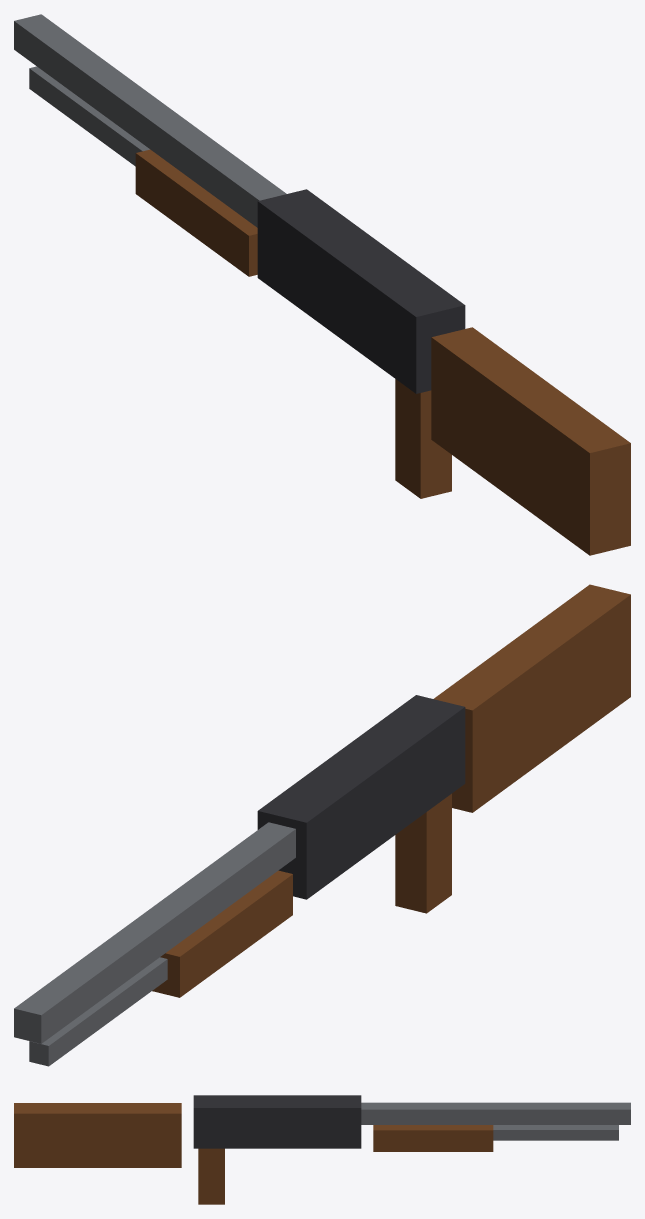
File: gun_shotgun.obj
The picture shows the model from 3 angles, top to bottom: view 1: azimuth 30°, elevation 25°; view 2: azimuth 150°, elevation 25°; view 3: azimuth 270°, elevation 25°; orthographic projection. The views are drawn at different scales.
Size of the model in its own units: 0.05 by 0.1825 by 1.03.
